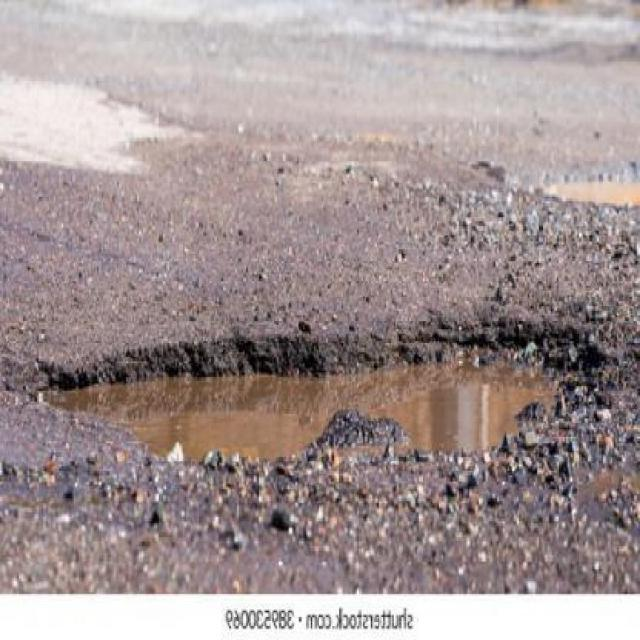pothole: (28, 320, 616, 469)
